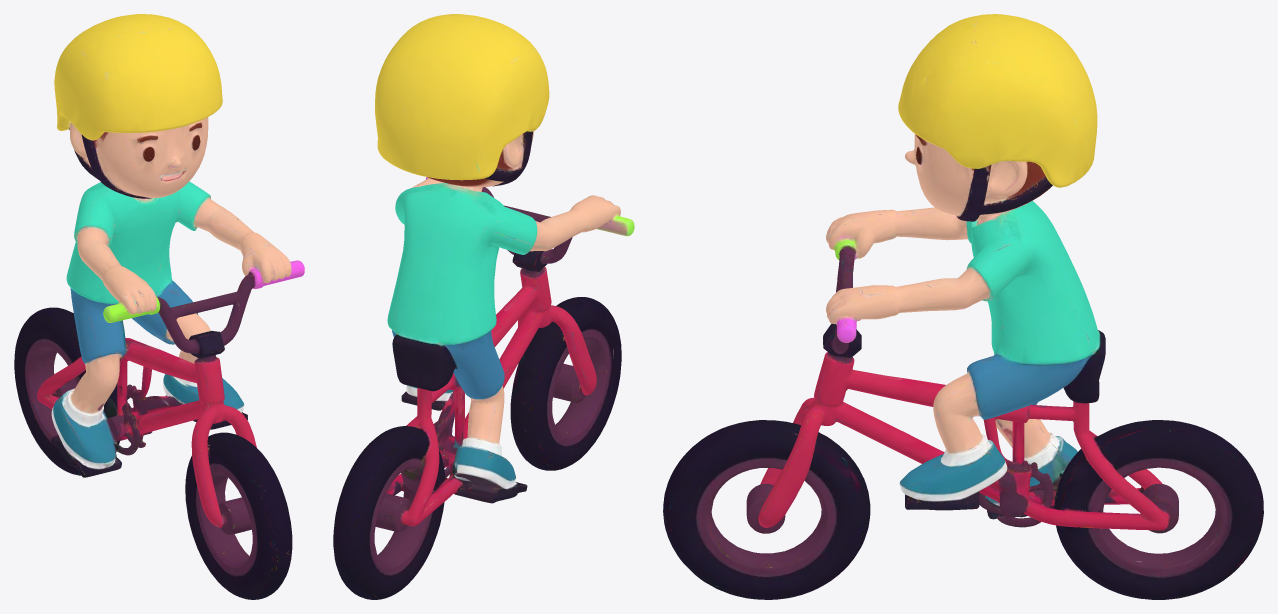
Rendered from rider.glb.
3 renders of one model, left to right at view 1: azimuth 30°, elevation 25°; view 2: azimuth 150°, elevation 25°; view 3: azimuth 270°, elevation 25°, orthographic. The views are drawn at different scales.
Parts seen in each view (by area): view 1: Mesh_0; view 2: Mesh_0; view 3: Mesh_0.
Part boxes in pixels (box(x1,y1,x2,y2)): Mesh_0: box(14, 14, 304, 599); Mesh_0: box(333, 14, 634, 599); Mesh_0: box(663, 14, 1263, 599).
Size of the model in its own units: 0.7924 by 1.91 by 1.82.
Materials: 1 (1 with a texture image).
